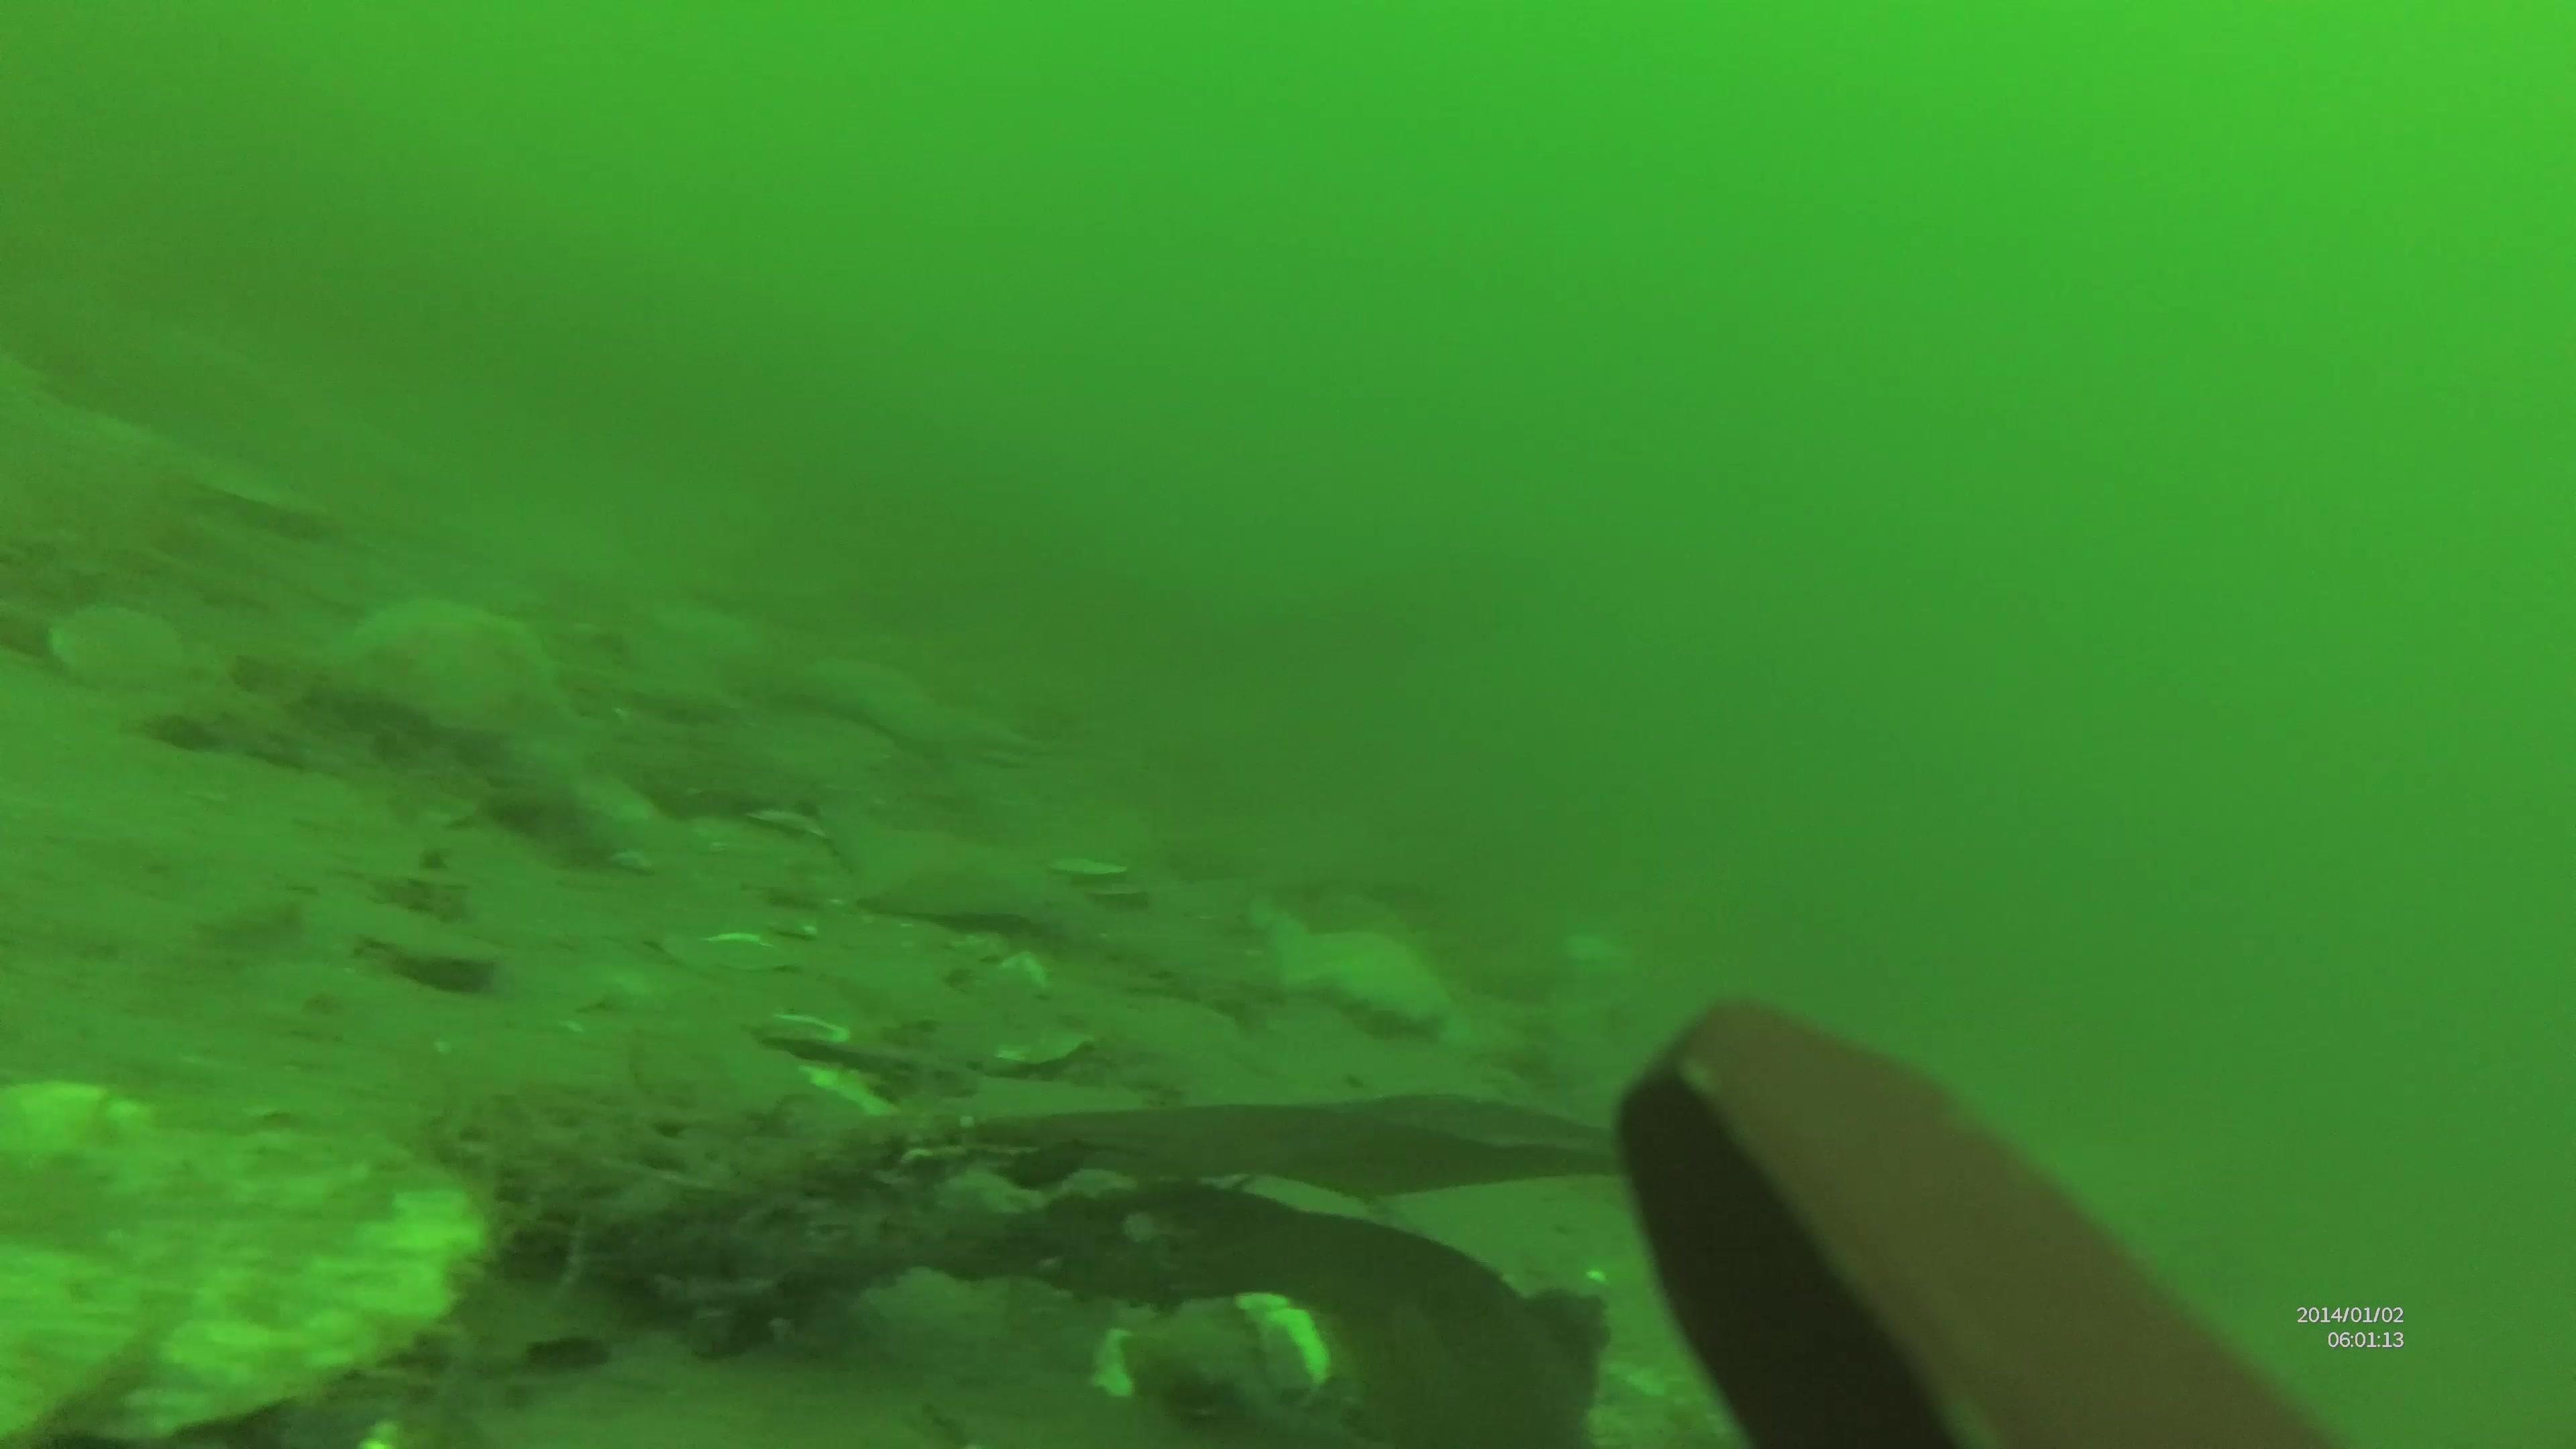scallop: (5, 1067, 481, 1449), (1113, 1277, 1341, 1399), (48, 594, 186, 701), (761, 1053, 899, 1123), (651, 920, 796, 980), (987, 1026, 1102, 1062), (743, 1003, 840, 1040), (1044, 842, 1132, 876), (1088, 872, 1154, 904)
starfish: (308, 584, 600, 738), (805, 796, 1069, 922), (1256, 911, 1447, 1030)
